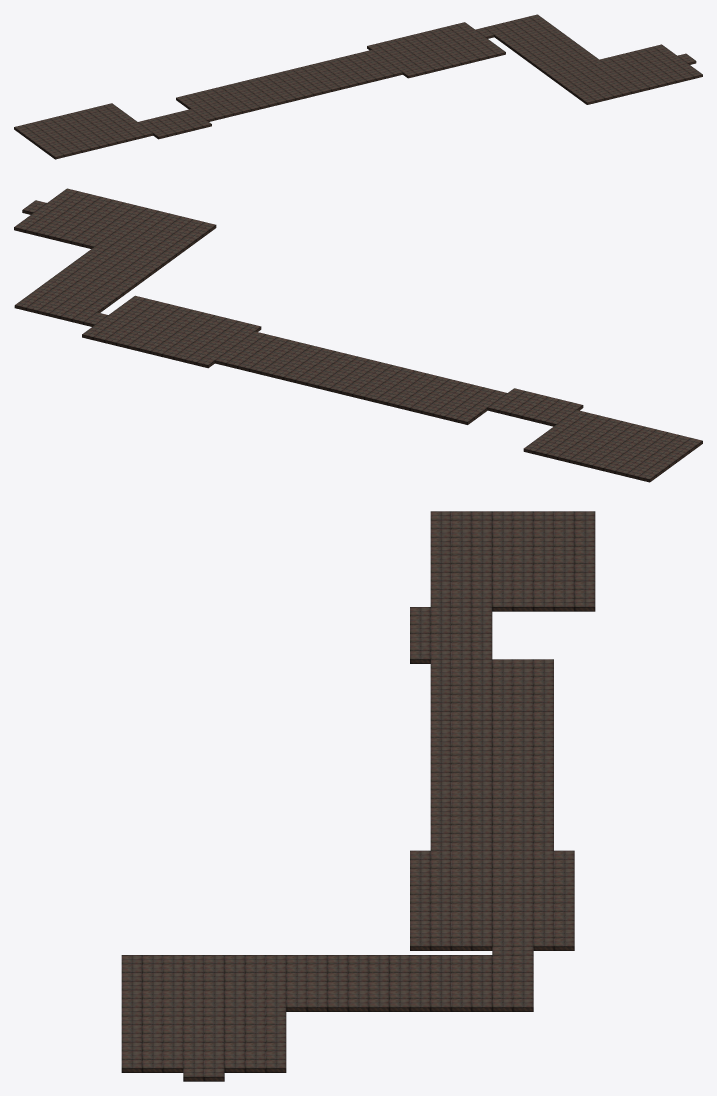
The model's file is TermProject_P2_roof.fbx.
3 views of the same model, one above another, from view 1: azimuth 30°, elevation 25°; view 2: azimuth 150°, elevation 25°; view 3: azimuth 270°, elevation 25° (orthographic). The views are drawn at different scales.
Visible parts, largest first — view 1: Floor.755; view 2: Floor.755; view 3: Floor.755.
Part boxes in pixels (x1,y1,x2,y2): Floor.755: (14, 14, 702, 159); Floor.755: (14, 188, 702, 482); Floor.755: (121, 511, 595, 1081).
Bounding box in the file's own units: 26000 × 100 × 9200.
